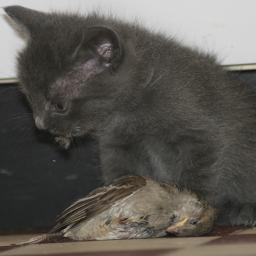bird: (58, 185, 256, 256)
cat: (82, 96, 256, 256)
